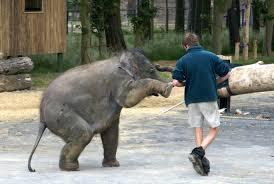elephant: (28, 48, 172, 171)
